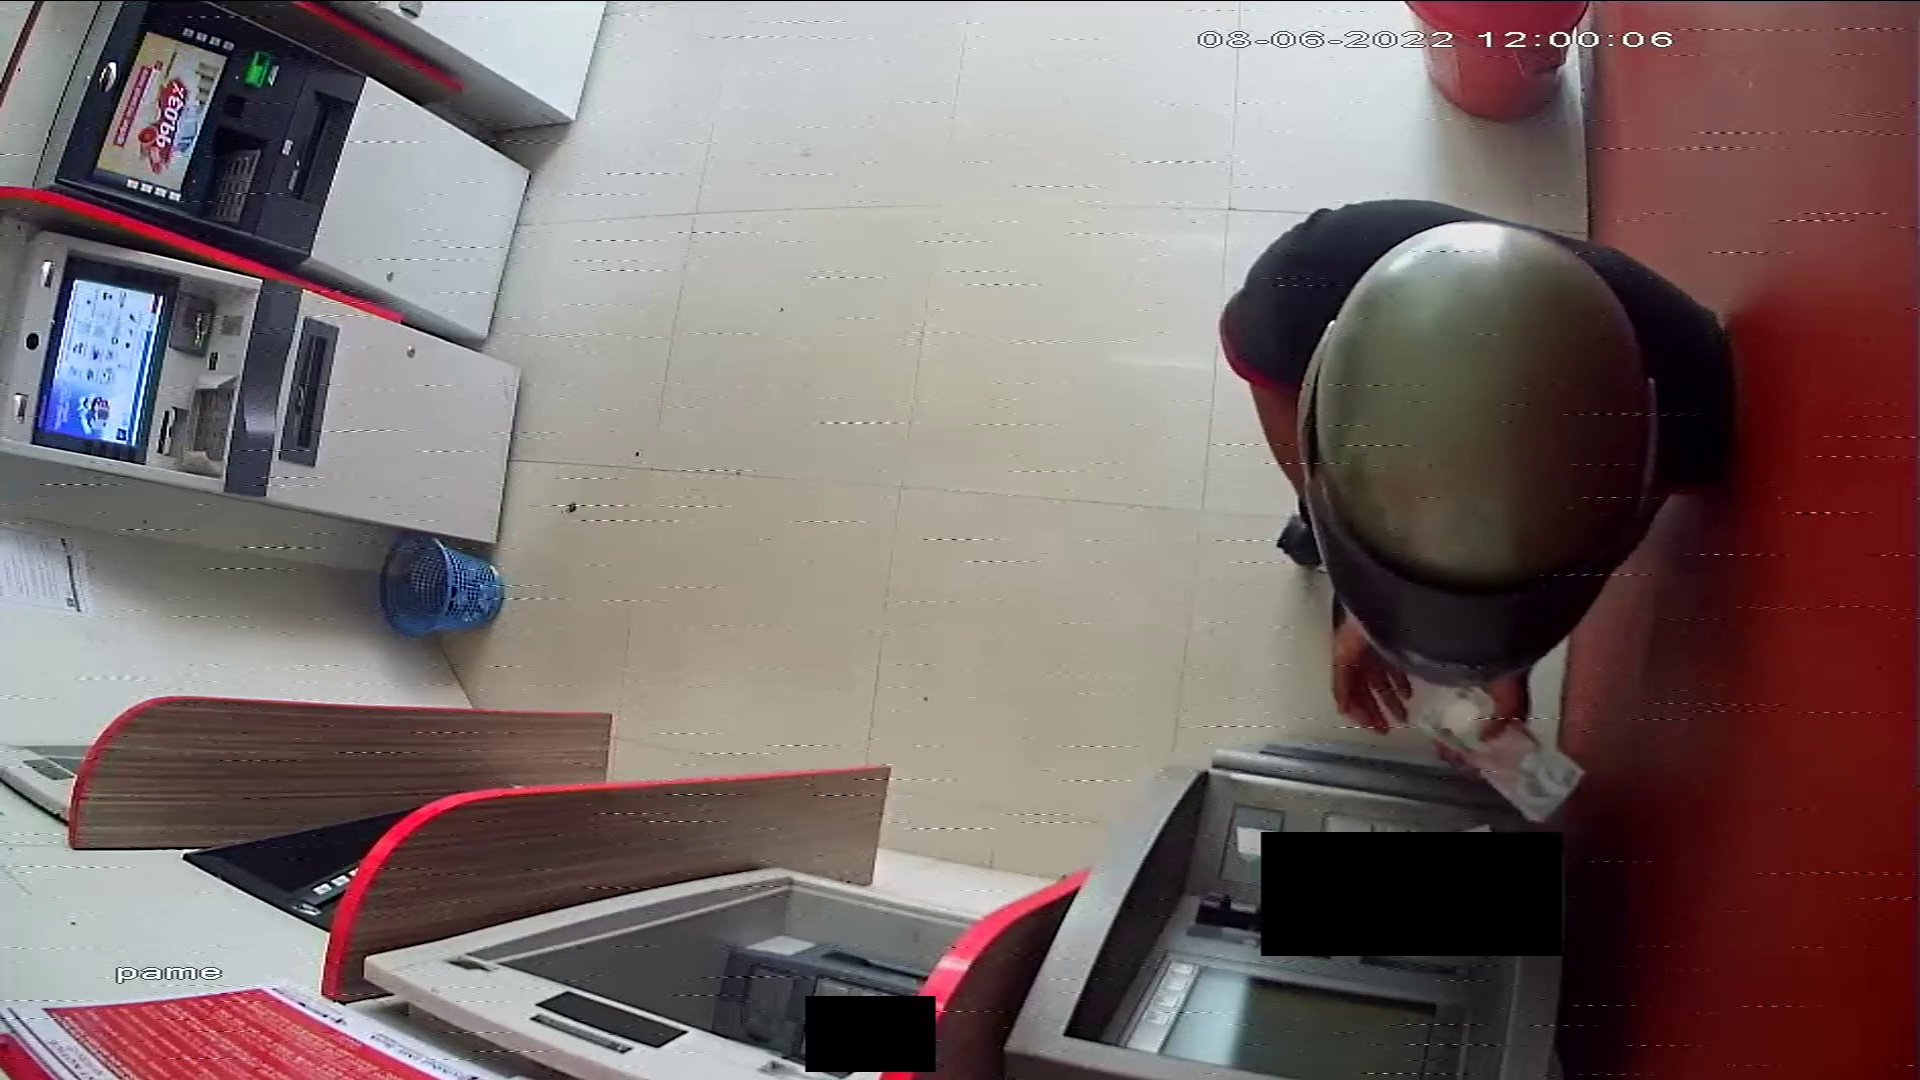helmet: (1294, 221, 1661, 690)
person: (1221, 200, 1738, 784)
